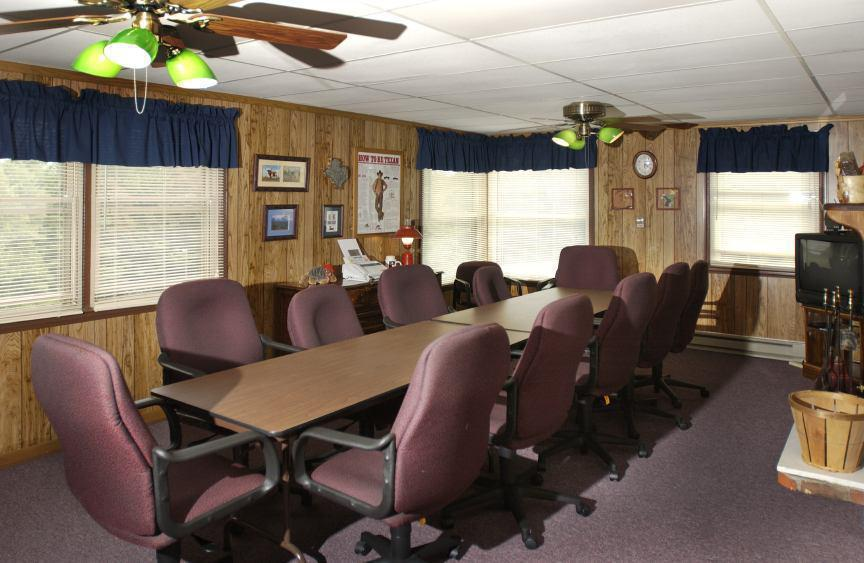Electrodomestico: (796, 226, 863, 319)
Ventana: (6, 146, 227, 304), (431, 151, 592, 278), (704, 153, 819, 264)
